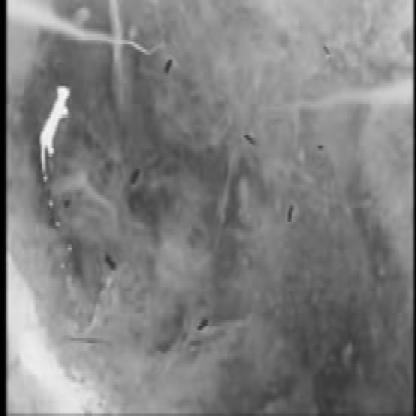rehkitze: (38, 81, 71, 173)
